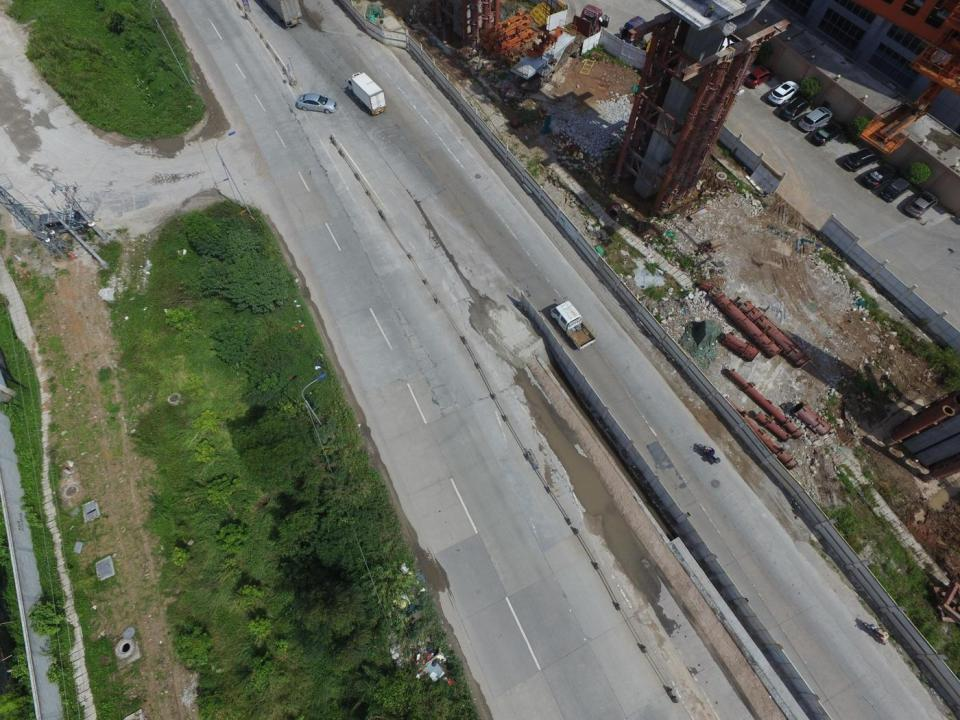car: (904, 192, 936, 219), (296, 93, 336, 114), (864, 165, 898, 189), (844, 148, 876, 172), (769, 82, 800, 105), (780, 96, 809, 120), (812, 126, 843, 144), (746, 67, 771, 89)
truck: (508, 4, 608, 90), (618, 16, 698, 81), (550, 299, 594, 349), (345, 72, 387, 116), (252, 0, 302, 29)
van: (879, 178, 910, 203), (799, 108, 832, 130)
